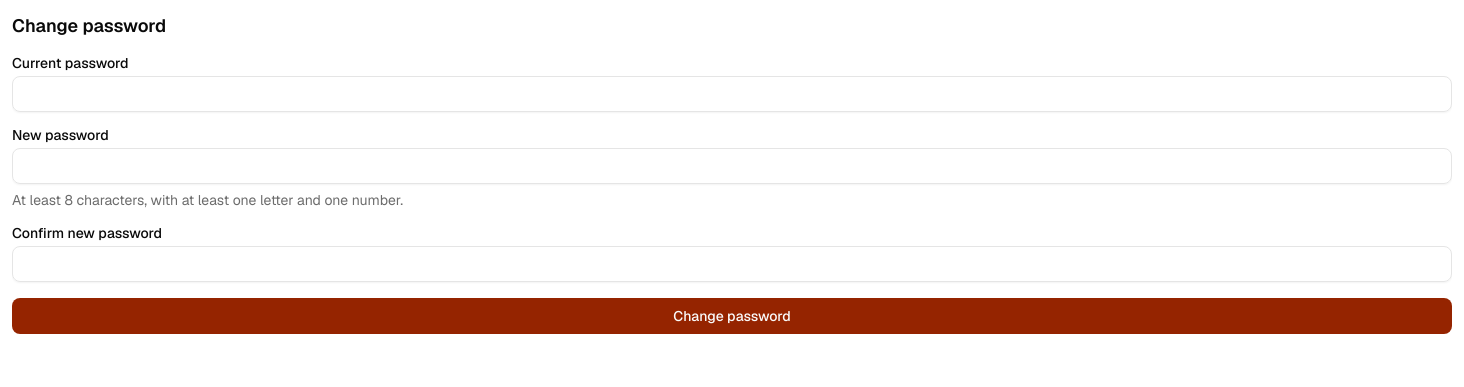
Test case: ChangePasswordForm › re-verifies the current password, updates, and signs out other sessions only
Type "oldpass1" into the password field labelled "Current password" at (732, 94), box 12,76 -> 1452,112
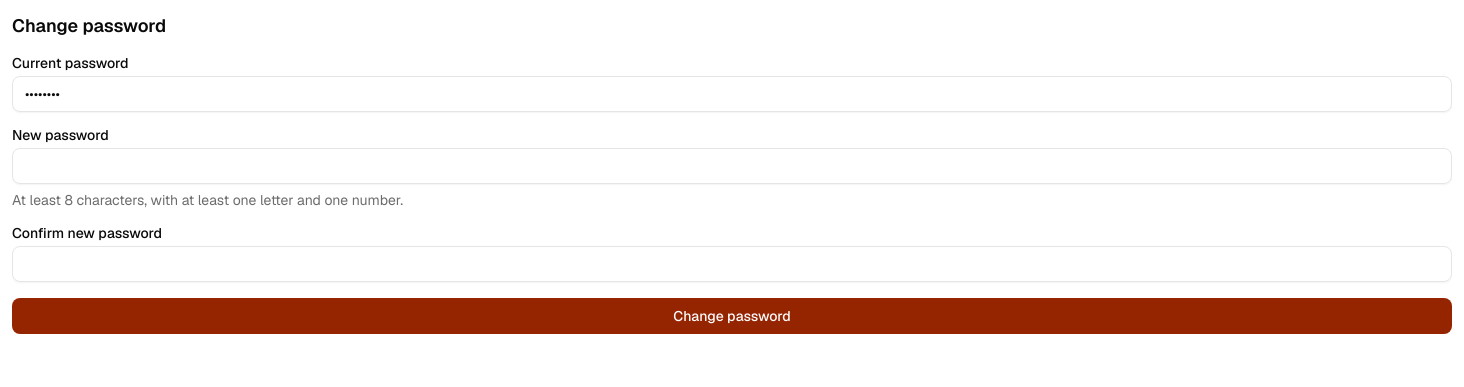
Type "newpass1" into the password field labelled "New password" at (732, 166), box 12,148 -> 1452,184
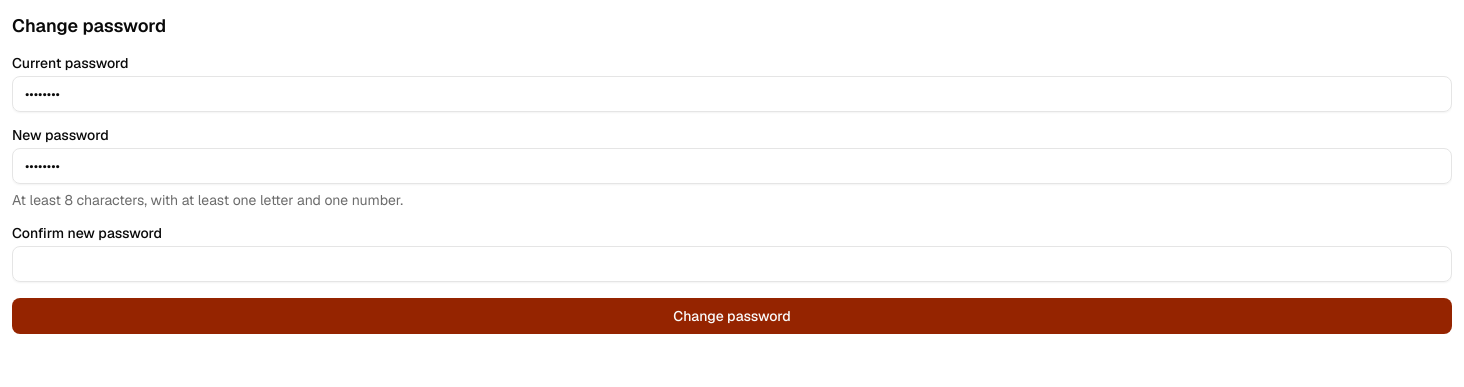
Type "newpass1" into the password field labelled "Confirm new password" at (732, 264), box 12,246 -> 1452,282
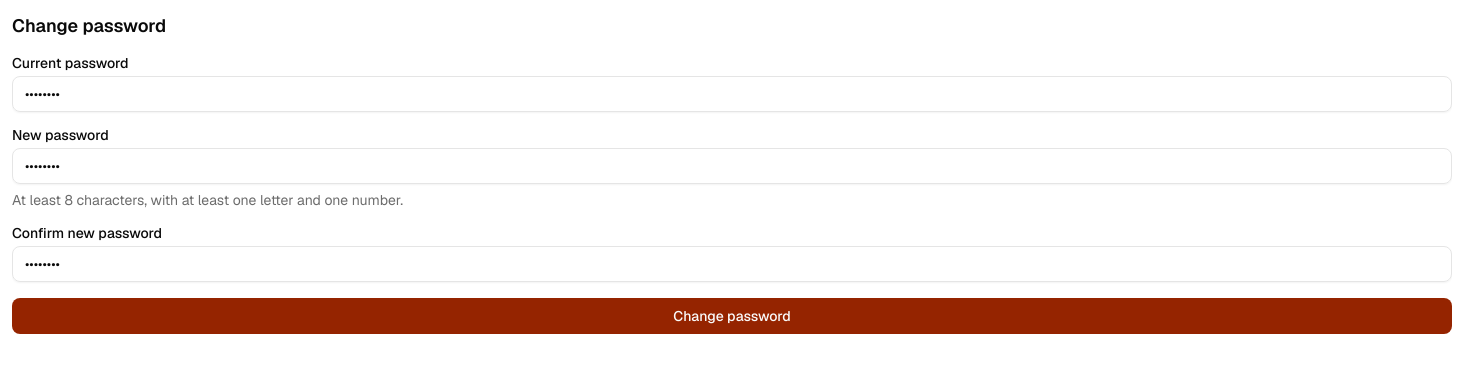
Click the button "Change password" at (732, 316), box 12,298 -> 1452,334
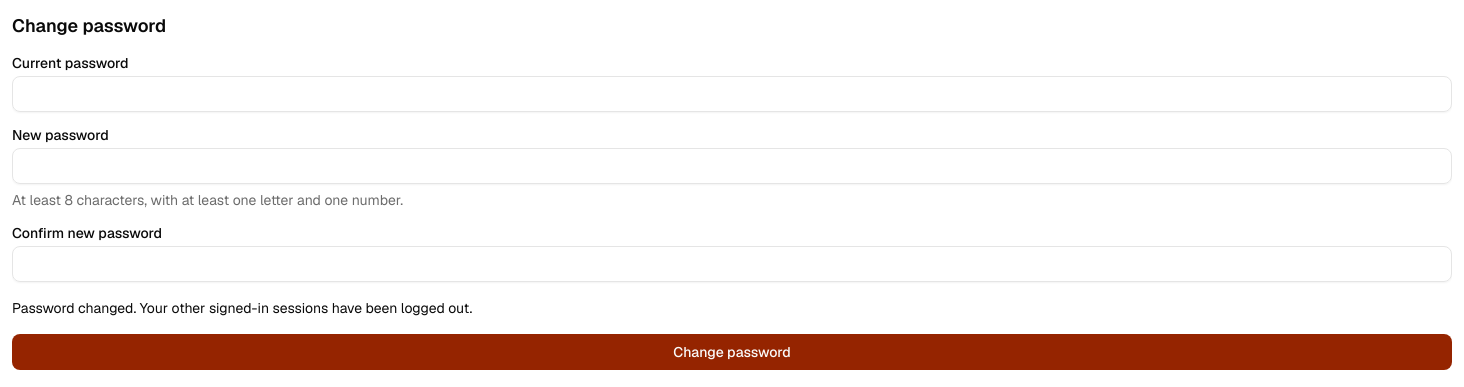
Check: the text "Password changed. Your other signed-in sessions have been logged out." is shown, box 12,299 -> 472,317
